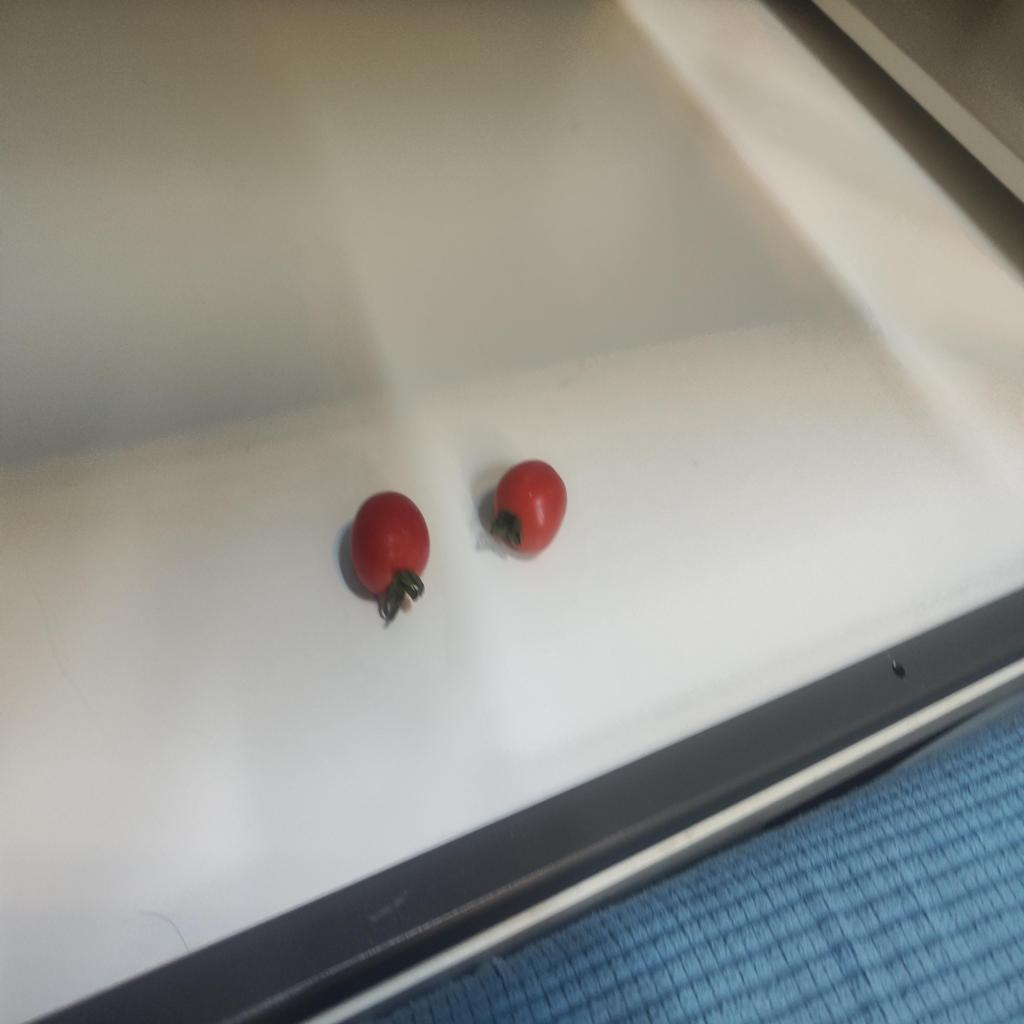tomato: (343, 494, 433, 609), (494, 455, 566, 561)
